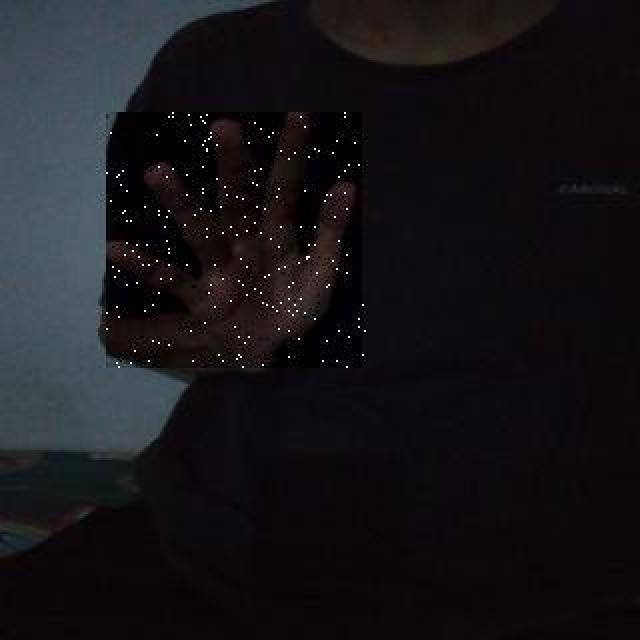hand: (108, 112, 368, 368)
